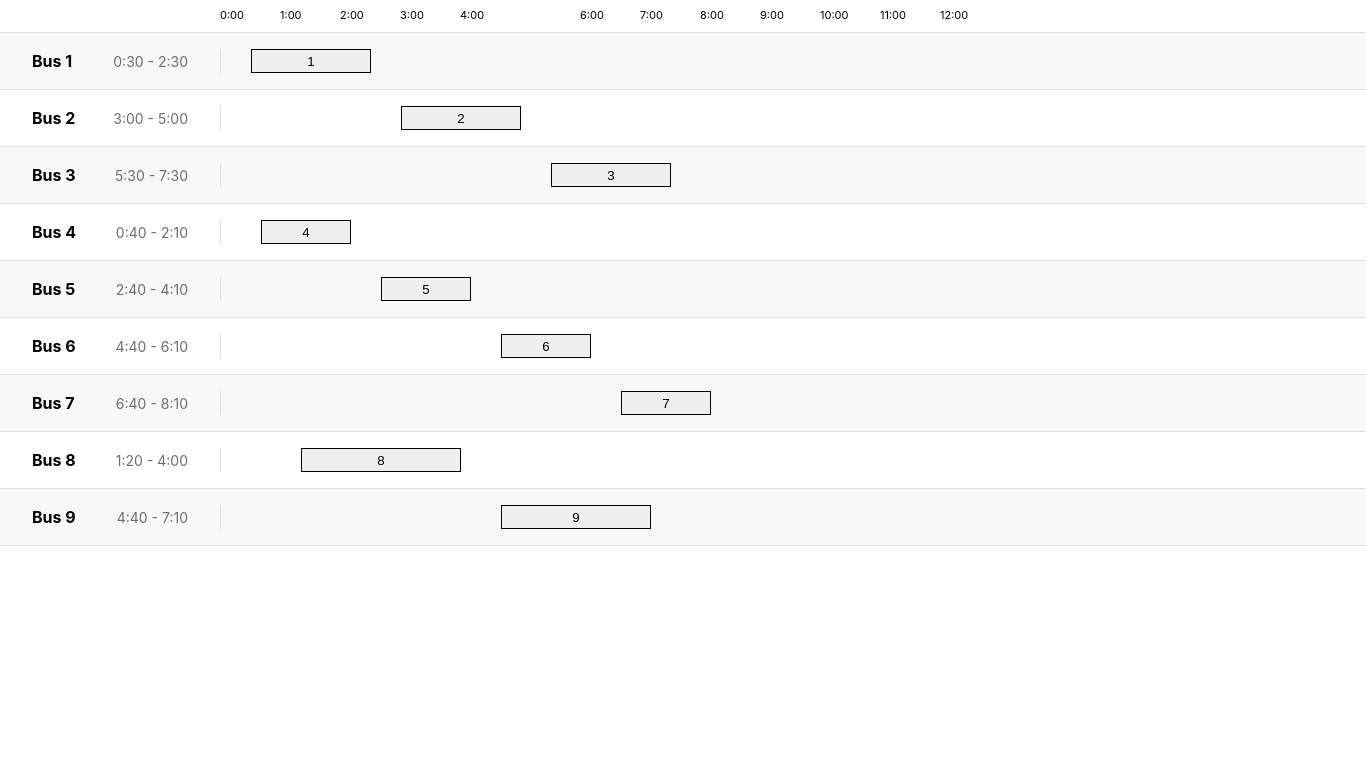
creates a new row when selecting a trip
This screenshot has width=1366, height=768.
Click the button with test id "button-trip" showing "1" at (311, 61), box [251, 49, 371, 73]
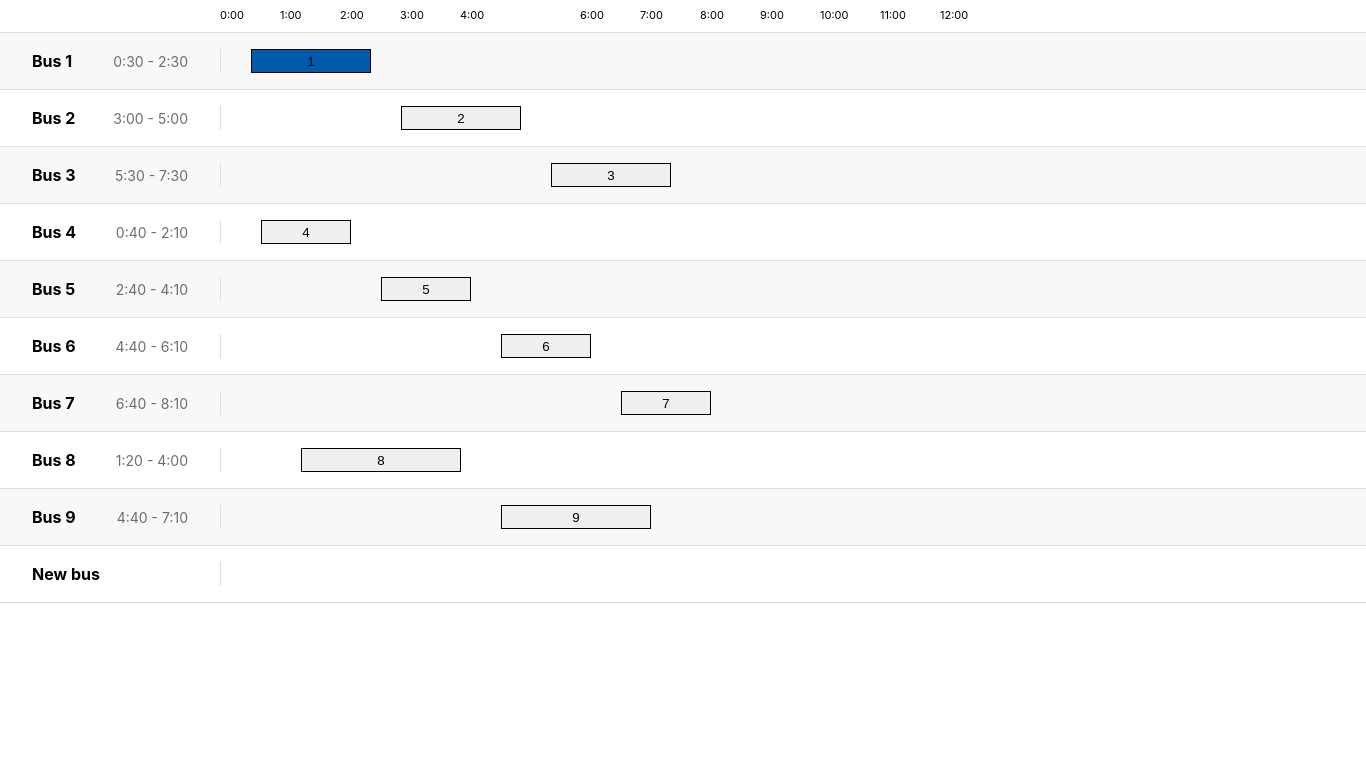
Expected: the number of elements with test id "bus-row" is 10
